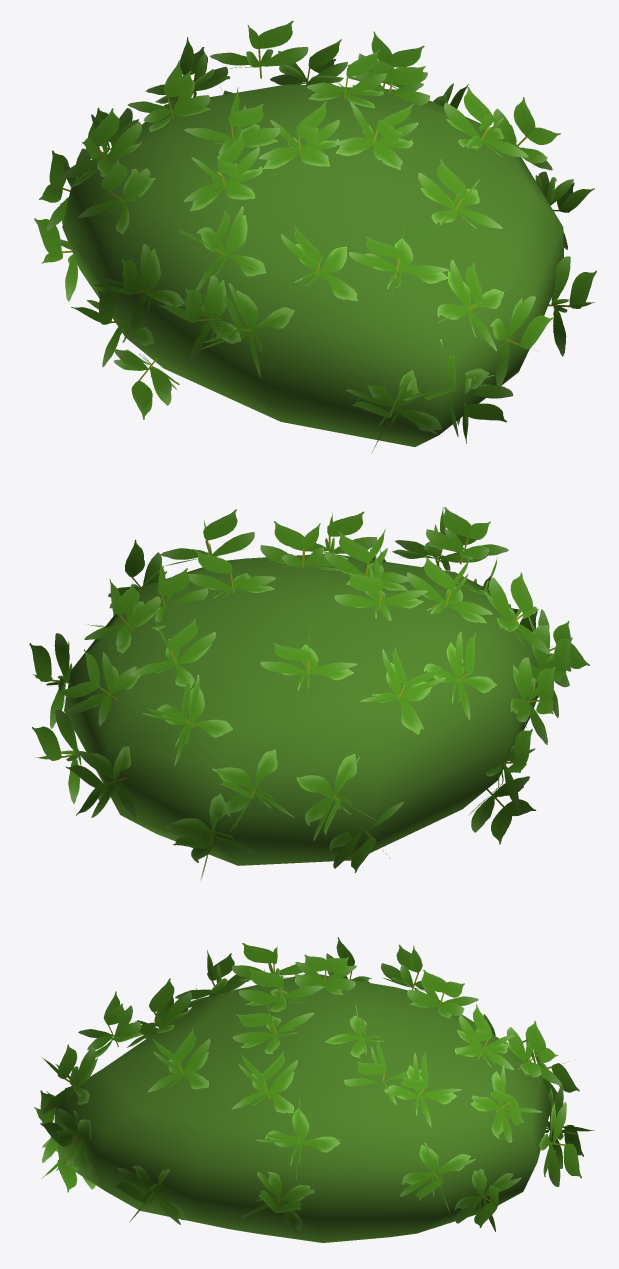
File: Bladerentst2.fbx
The picture shows the model from 3 angles, top to bottom: view 1: azimuth 30°, elevation 25°; view 2: azimuth 150°, elevation 25°; view 3: azimuth 270°, elevation 25°; orthographic projection. The views are drawn at different scales.
Visible parts, largest first — view 1: base, sides, bottom; view 2: base, sides, bottom; view 3: base, sides, bottom.
Boxes of the visible parts, box(x1,y1,x2,y2) form: base: box(62, 84, 563, 446); sides: box(34, 20, 596, 453); bottom: box(70, 63, 556, 431); base: box(64, 554, 538, 865); sides: box(29, 507, 589, 879); bottom: box(58, 541, 554, 862); base: box(54, 974, 550, 1242); sides: box(34, 937, 594, 1236); bottom: box(55, 971, 563, 1229).
Bounding box in the file's own units: 8.38 × 4.82 × 10.12.
